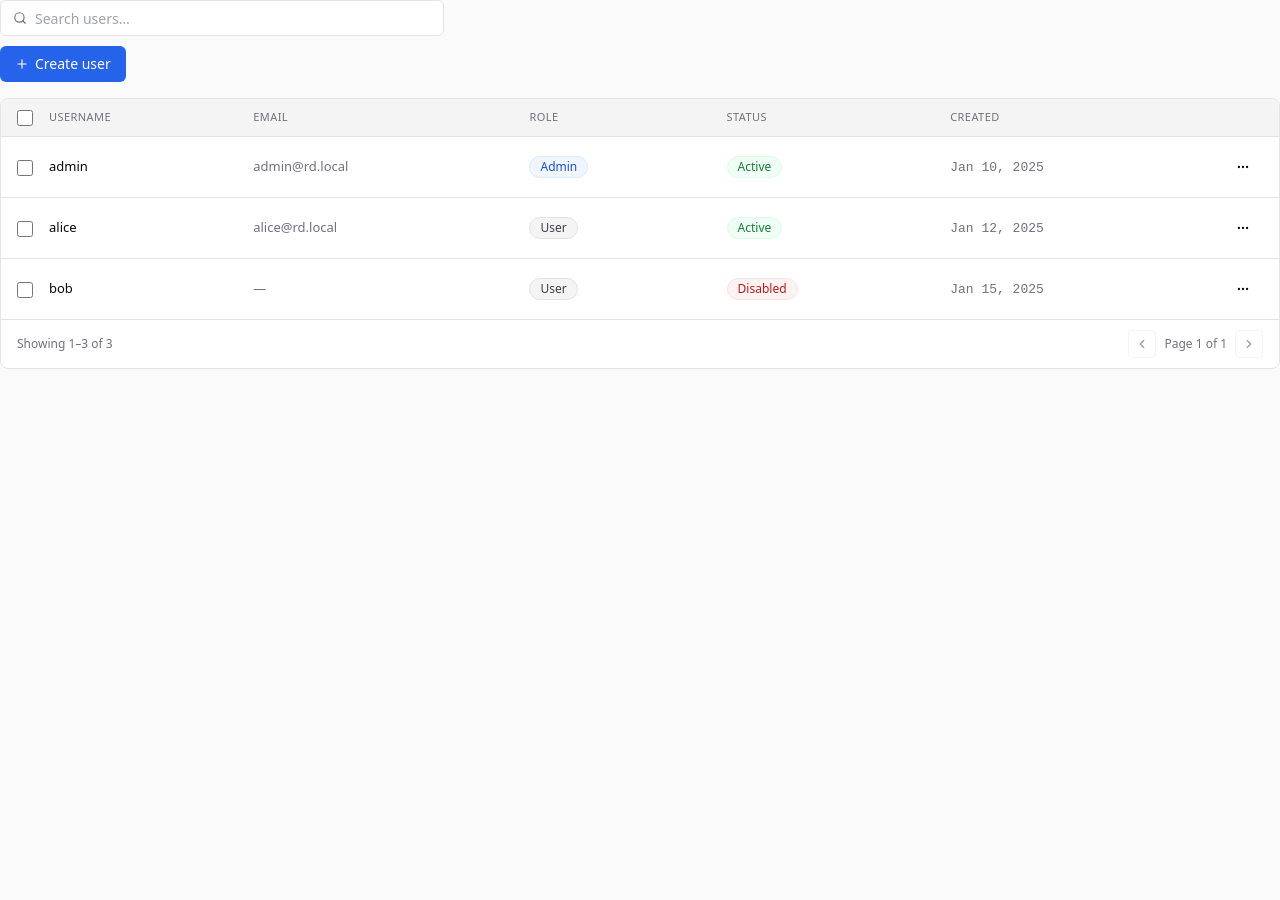
Scenario: <SettingsUsersTab /> › disables a user via the row dropdown → confirm dialog
The image size is (1280, 900).
Expected: the text "alice" is shown, [49,218,77,236]
Click the button named "actions for alice" at {"x": 1243, "y": 228}, box [1223,212,1263,244]
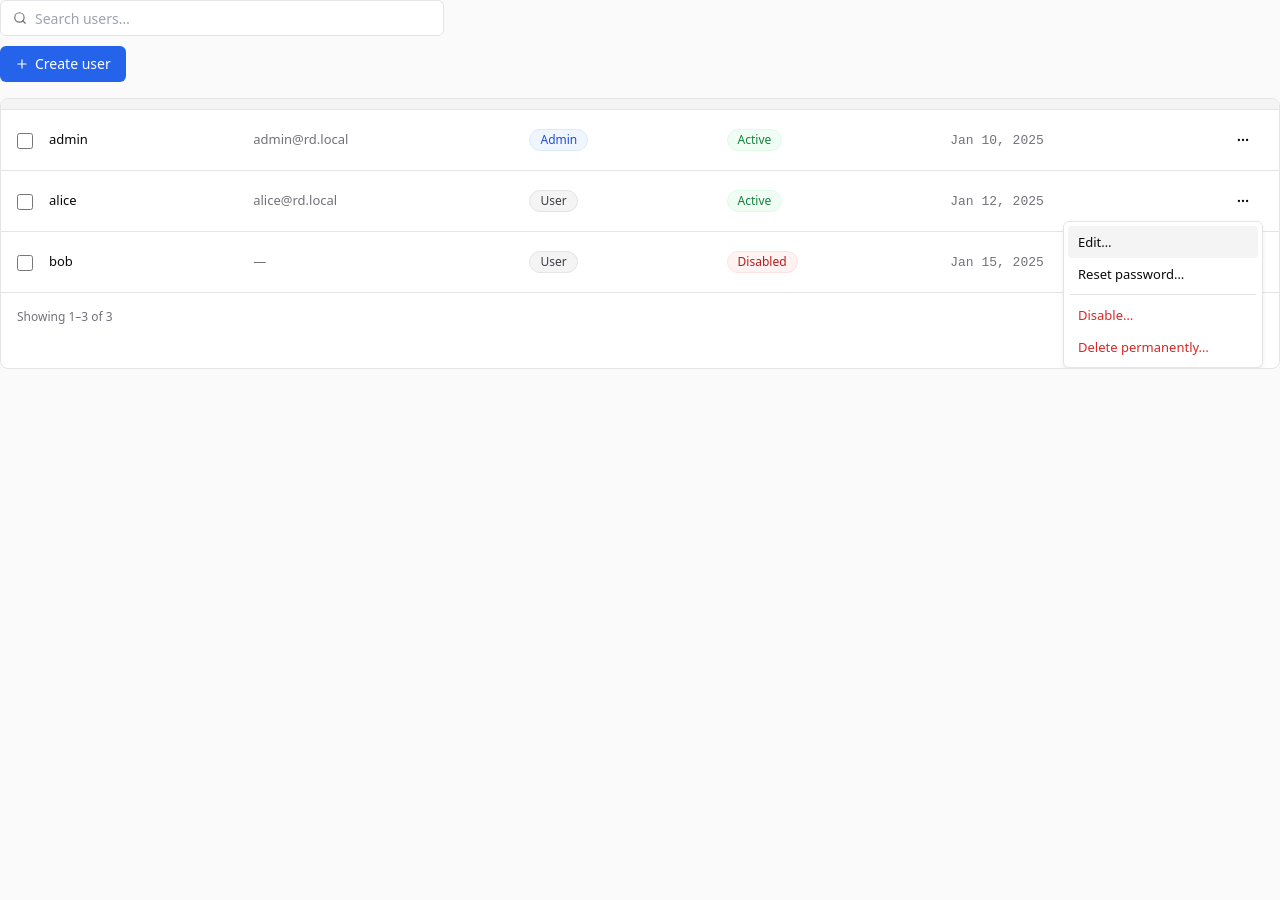
Click the menu item "Disable…" at {"x": 1163, "y": 315}, box [1068,299,1258,331]
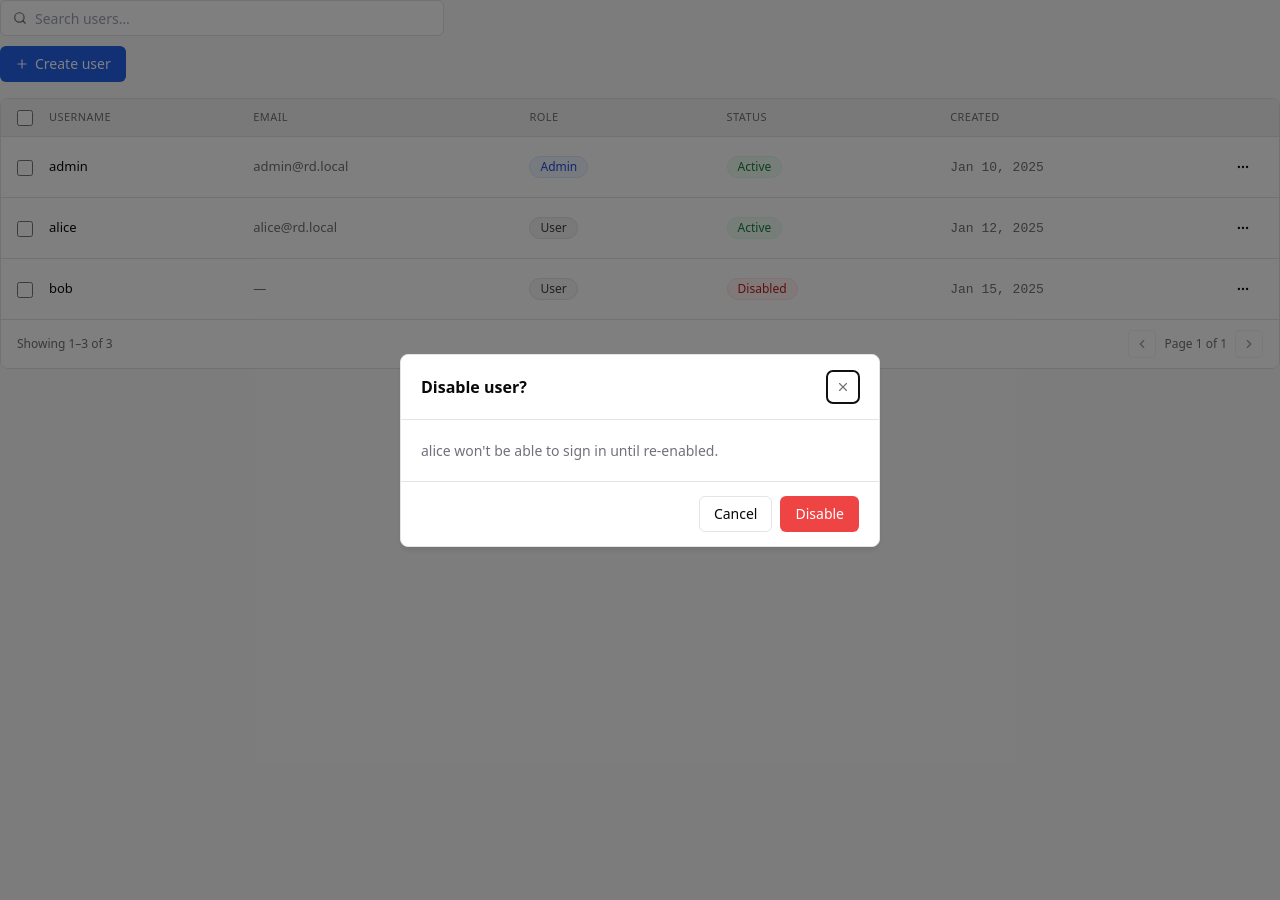
Expected: the dialog "Disable user" is shown, [400,354,880,546]
Click the button "Disable" at {"x": 820, "y": 514}, box [780,496,859,532]
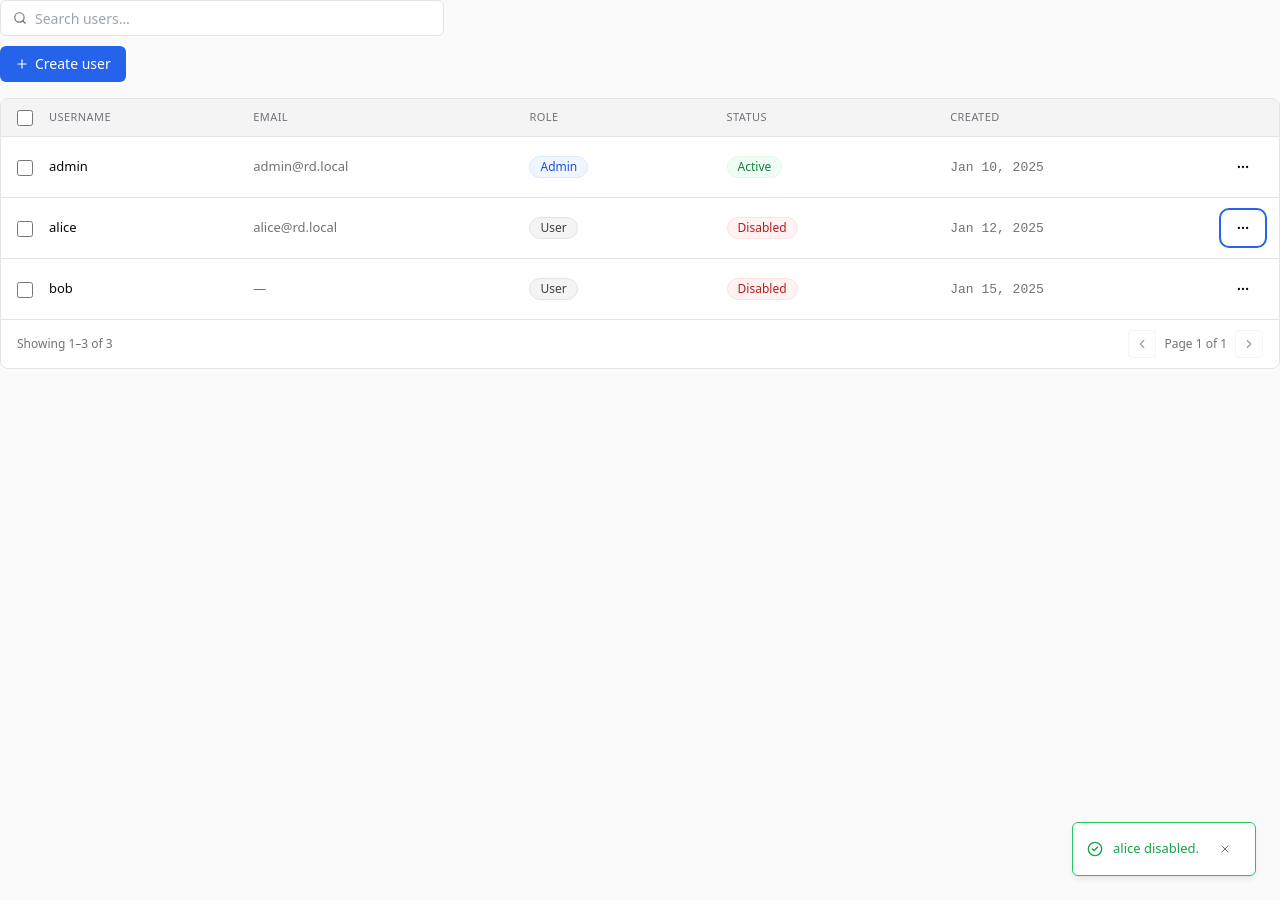
Expected: the text "Disabled" in the row of "alice@rd.local" is shown, [738,219,787,236]
